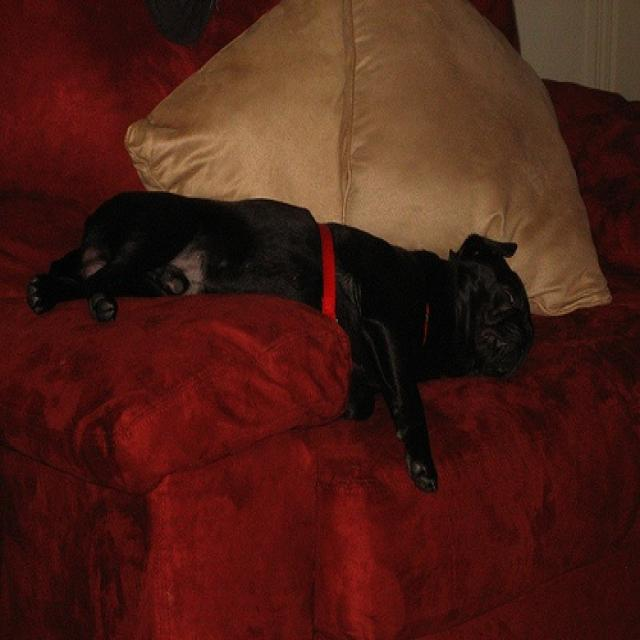Dog: (32, 190, 532, 492)
